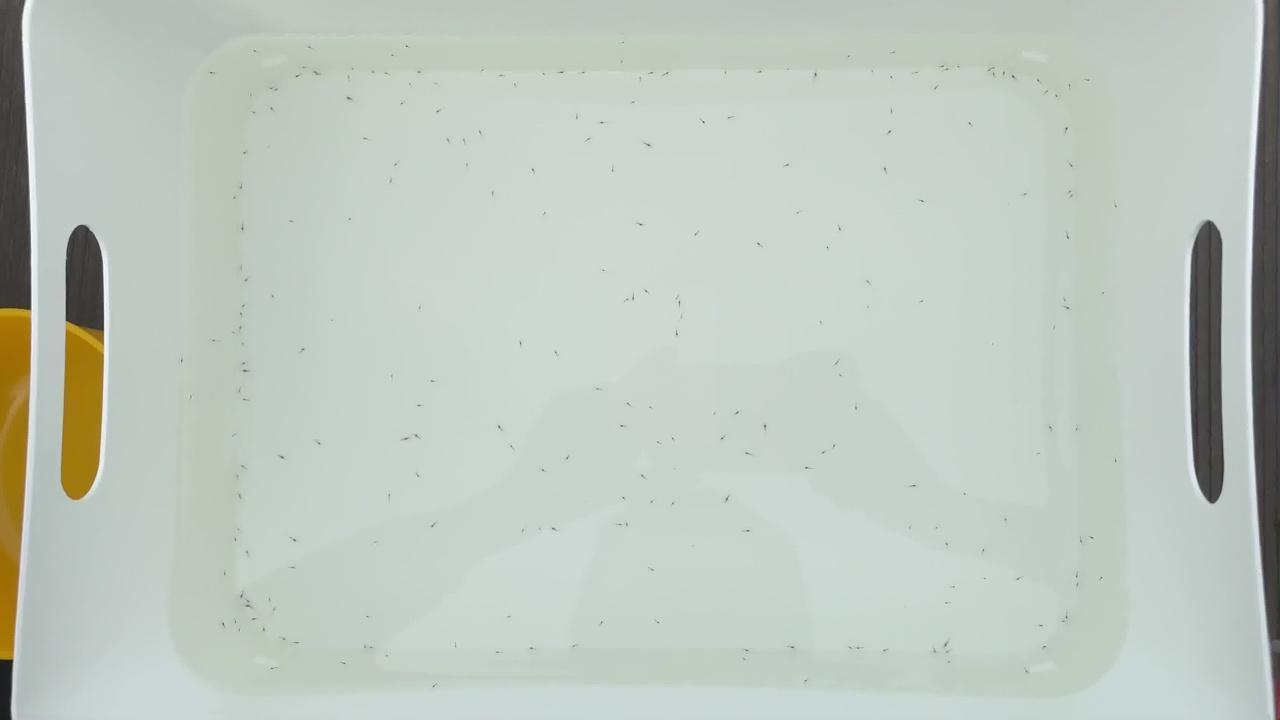shrimp: (1064, 85, 1077, 93), (1052, 96, 1065, 104), (953, 63, 966, 71), (928, 85, 941, 93), (914, 68, 927, 76), (843, 52, 856, 60), (809, 69, 822, 77), (718, 69, 731, 77), (1062, 129, 1075, 137), (1109, 201, 1122, 209), (1060, 235, 1073, 243), (1095, 290, 1108, 298), (1047, 428, 1060, 436), (1071, 567, 1084, 575), (1058, 617, 1071, 625), (1022, 672, 1035, 680), (944, 656, 957, 664), (879, 645, 892, 653), (854, 644, 867, 652), (842, 645, 855, 653), (738, 644, 751, 652), (1012, 578, 1025, 586), (973, 545, 986, 553), (932, 522, 945, 530), (902, 523, 915, 531), (831, 445, 844, 453), (670, 290, 683, 298), (619, 296, 632, 304), (685, 118, 698, 126), (655, 69, 668, 77), (602, 168, 615, 176), (512, 79, 525, 87), (458, 135, 471, 143), (425, 79, 438, 87), (412, 68, 425, 76), (402, 46, 415, 54), (402, 79, 415, 87), (339, 80, 352, 88), (308, 69, 321, 77), (299, 63, 312, 71), (290, 74, 303, 82), (307, 41, 320, 49), (247, 90, 260, 98), (341, 213, 354, 221), (254, 622, 267, 630), (278, 634, 291, 642), (366, 645, 379, 653), (361, 611, 374, 619), (598, 622, 611, 630), (739, 450, 752, 458), (667, 500, 680, 508), (411, 473, 424, 481), (385, 367, 398, 375), (416, 307, 429, 315), (515, 340, 528, 348), (638, 473, 651, 481), (620, 395, 633, 403), (884, 130, 896, 138), (967, 118, 979, 126), (956, 490, 968, 498), (939, 539, 951, 547), (817, 318, 829, 326), (463, 163, 475, 171), (358, 130, 370, 138), (236, 185, 248, 193), (274, 450, 286, 458), (236, 484, 248, 492), (291, 534, 303, 542), (762, 417, 774, 425), (668, 434, 680, 442), (1080, 75, 1093, 82), (1041, 89, 1054, 96), (1008, 75, 1021, 82), (987, 72, 1000, 79), (982, 64, 995, 71), (939, 66, 952, 73), (935, 63, 948, 70), (885, 50, 898, 57), (883, 72, 896, 79), (869, 66, 882, 73), (784, 67, 797, 74), (753, 71, 766, 78), (884, 106, 897, 113), (879, 164, 892, 171), (917, 193, 930, 200), (1065, 160, 1078, 167), (1062, 184, 1075, 191), (1065, 195, 1078, 202), (1060, 294, 1073, 301), (1063, 305, 1076, 312), (1052, 322, 1065, 329), (1071, 423, 1084, 430), (1112, 459, 1125, 466), (1089, 536, 1102, 543), (1074, 542, 1087, 549), (1030, 453, 1043, 460), (1094, 575, 1107, 582), (1073, 583, 1086, 590), (1064, 614, 1077, 621), (1037, 620, 1050, 627), (1039, 640, 1052, 647), (942, 644, 955, 651), (927, 652, 940, 659), (796, 682, 809, 689), (783, 646, 796, 653), (739, 657, 752, 664), (948, 580, 961, 587), (978, 575, 991, 582), (1001, 514, 1014, 521), (814, 447, 827, 454), (796, 457, 809, 464), (851, 405, 864, 412), (834, 366, 847, 373), (829, 354, 842, 361), (915, 298, 928, 305), (862, 304, 875, 311), (862, 275, 875, 282), (835, 220, 848, 227), (751, 240, 764, 247), (679, 312, 692, 319), (672, 326, 685, 333), (676, 300, 689, 307), (640, 290, 653, 297), (597, 264, 610, 271), (635, 218, 648, 225), (694, 233, 707, 240), (723, 113, 736, 120), (638, 140, 651, 147), (583, 136, 596, 143), (594, 120, 607, 127), (626, 101, 639, 108), (617, 53, 630, 60), (579, 67, 592, 74), (570, 115, 583, 122), (556, 67, 569, 74), (498, 72, 511, 79), (475, 64, 488, 71), (527, 166, 540, 173), (539, 211, 552, 218), (485, 189, 498, 196), (476, 127, 489, 134), (442, 126, 455, 133), (428, 101, 441, 108), (443, 139, 456, 146), (378, 74, 391, 81), (389, 52, 402, 59), (366, 67, 379, 74), (350, 63, 363, 70), (343, 98, 356, 105), (391, 164, 404, 171), (384, 179, 397, 186), (205, 67, 218, 74), (270, 89, 283, 96), (268, 101, 281, 108), (248, 109, 261, 116), (240, 148, 253, 155), (225, 197, 238, 204), (236, 222, 249, 229), (286, 216, 299, 223), (265, 293, 278, 300), (230, 264, 243, 271), (233, 319, 246, 326), (226, 326, 239, 333), (207, 339, 220, 346), (174, 362, 187, 369), (182, 395, 195, 402), (240, 344, 253, 351), (239, 362, 252, 369), (240, 366, 253, 373), (231, 386, 244, 393), (293, 348, 306, 355), (230, 431, 243, 438), (314, 439, 327, 446), (240, 463, 253, 470), (229, 474, 242, 481), (232, 526, 245, 533), (231, 538, 244, 545), (241, 554, 254, 561), (288, 563, 301, 570), (267, 592, 280, 599), (242, 600, 255, 607), (232, 590, 245, 597), (225, 614, 238, 621), (232, 626, 245, 633), (242, 615, 255, 622), (267, 609, 280, 616), (266, 663, 279, 670), (340, 659, 353, 666), (356, 642, 369, 649), (432, 683, 445, 690), (453, 637, 466, 644), (492, 651, 505, 658), (525, 647, 538, 654), (569, 644, 582, 651), (655, 623, 668, 630), (642, 563, 655, 570), (745, 529, 758, 536), (721, 431, 734, 438), (711, 410, 724, 417), (653, 442, 666, 449), (549, 529, 562, 536), (533, 521, 546, 528), (521, 526, 534, 533), (383, 496, 396, 503), (400, 439, 413, 446), (413, 407, 426, 414), (425, 373, 438, 380), (549, 349, 562, 356), (506, 444, 519, 451), (542, 467, 555, 474), (558, 449, 571, 456), (621, 424, 634, 431), (642, 405, 655, 412), (589, 380, 602, 387), (390, 321, 403, 328), (1033, 78, 1045, 85), (1000, 71, 1012, 78), (1022, 191, 1034, 198), (939, 642, 951, 649), (939, 603, 951, 610), (911, 482, 923, 489), (823, 243, 835, 250), (790, 212, 802, 219), (629, 293, 641, 300), (784, 160, 796, 167), (645, 70, 657, 77), (701, 118, 713, 125), (541, 72, 553, 79), (396, 105, 408, 112), (252, 50, 264, 57), (241, 276, 253, 283), (241, 299, 253, 306), (236, 309, 248, 316), (241, 396, 253, 403), (241, 604, 253, 611), (213, 567, 225, 574), (219, 622, 231, 629), (286, 639, 298, 646), (380, 651, 392, 658), (502, 614, 514, 621), (723, 498, 735, 505), (729, 408, 741, 415), (646, 497, 658, 504), (618, 497, 630, 504), (623, 520, 635, 527), (613, 520, 625, 527), (429, 521, 441, 528), (408, 432, 420, 439), (490, 424, 502, 431)
